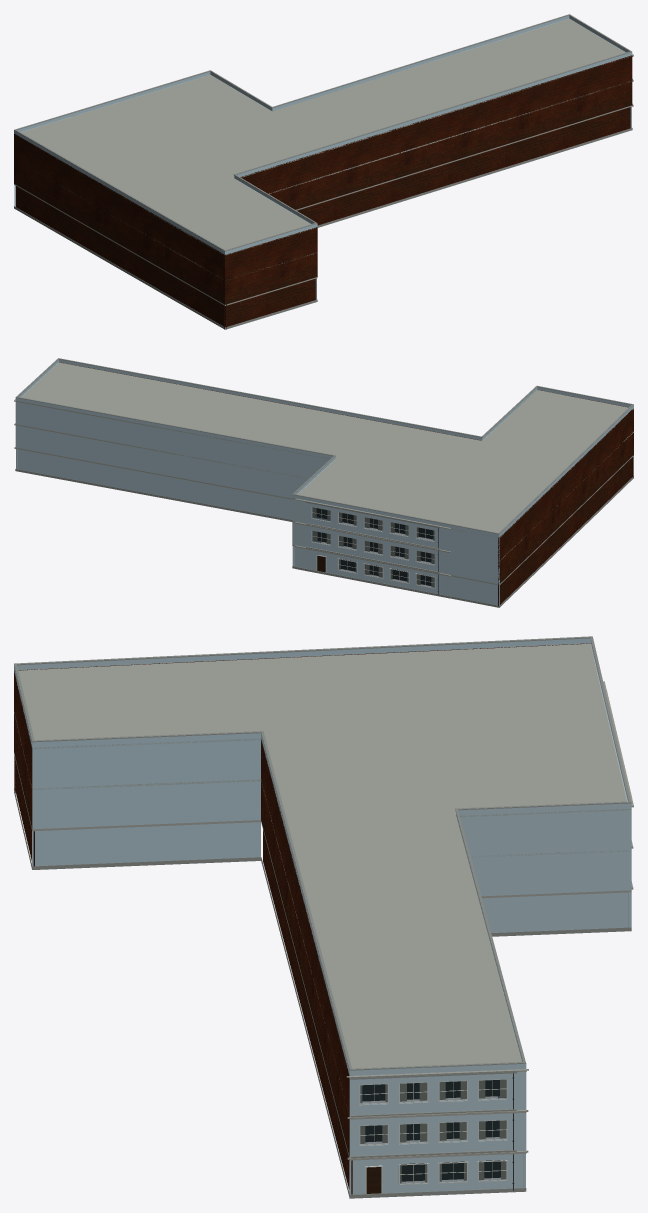
Rendered from building.glb.
3 views of the same model, one above another, from view 1: azimuth 30°, elevation 25°; view 2: azimuth 150°, elevation 25°; view 3: azimuth 270°, elevation 25° (orthographic). The views are drawn at different scales.
Visible parts, largest first — view 1: roof/main:0/roof_slab#0001, main:0/edge6/z0/main:0/edge6/z0/wall_1_0, main:0/edge6/z0/main:0/edge6/z0/wall_0_0, roof/main:0/parapet#0001, main:0/edge4/z0/main:0/edge4/z0/wall_1_0/core0, main:0/edge0/z0/main:0/edge0/z0/wall_1_0/core0, main:0/edge1/z0/main:0/edge1/z0/wall_1_0, main:0/edge2/z0/main:0/edge2/z0/wall_1_0, roof/main:0/parapet_cap#0002, main:0/edge4/z0/main:0/edge4/z0/wall_0_0/core0, main:0/edge0/z0/main:0/edge0/z0/wall_0_0/core0, roof/main:0/parapet_cap#0001 (+5 smaller); view 2: roof/main:0/roof_slab#0001, main:0/edge9/z0/main:0/edge9/z0/wall_1_0/core0, main:0/edge9/z0/main:0/edge9/z0/wall_0_0/core0, roof/main:0/parapet#0001, main:0/edge12/z0/main:0/edge12/z0/wall_1_0, main:0/edge0/z0/main:0/edge0/z0/wall_1_0/core0, main:0/edge13/z0/main:0/edge13/z0/wall_1_0/core0, roof/main:0/parapet_cap#0002, main:0/edge1/z0/main:0/edge1/z0/wall_1_0, main:0/edge2/z0/main:0/edge2/z0/wall_1_0, main:0/edge12/z0/main:0/edge12/z0/wall_0_0, roof/main:0/parapet_cap#0001 (+9 smaller); view 3: roof/main:0/roof_slab#0001, main:0/edge5/z0/main:0/edge5/z0/wall_1_0, main:0/edge10/z0/main:0/edge10/z0/wall_1_0/core0, main:0/edge5/z0/main:0/edge5/z0/wall_0_0, roof/main:0/parapet#0001, main:0/edge7/z0/main:0/edge7/z0/wall_1_0, main:0/edge6/z0/main:0/edge6/z0/wall_1_0, main:0/edge10/z0/main:0/edge10/z0/wall_0_0/core0, roof/main:0/parapet_cap#0002, main:0/edge7/z0/main:0/edge7/z0/wall_0_0, main:0/edge6/z0/main:0/edge6/z0/wall_0_0, roof/main:0/parapet_cap#0001 (+3 smaller).
Boxes of the visible parts, left/top/right/bottom form: roof/main:0/roof_slab#0001: left=21, top=19, right=630, bottom=253; main:0/edge6/z0/main:0/edge6/z0/wall_1_0: left=240, top=55, right=632, bottom=209; main:0/edge6/z0/main:0/edge6/z0/wall_0_0: left=297, top=107, right=631, bottom=225; roof/main:0/parapet#0001: left=14, top=15, right=632, bottom=254; main:0/edge4/z0/main:0/edge4/z0/wall_1_0/core0: left=225, top=227, right=317, bottom=304; main:0/edge0/z0/main:0/edge0/z0/wall_1_0/core0: left=14, top=133, right=104, bottom=234; main:0/edge1/z0/main:0/edge1/z0/wall_1_0: left=104, top=186, right=165, bottom=270; main:0/edge2/z0/main:0/edge2/z0/wall_1_0: left=165, top=221, right=222, bottom=303; roof/main:0/parapet_cap#0002: left=14, top=14, right=631, bottom=250; main:0/edge4/z0/main:0/edge4/z0/wall_0_0/core0: left=224, top=278, right=316, bottom=326; main:0/edge0/z0/main:0/edge0/z0/wall_0_0/core0: left=16, top=186, right=105, bottom=258; roof/main:0/parapet_cap#0001: left=14, top=15, right=631, bottom=251; roof/main:0/roof_slab#0001: left=16, top=362, right=633, bottom=537; main:0/edge9/z0/main:0/edge9/z0/wall_1_0/core0: left=16, top=402, right=329, bottom=498; main:0/edge9/z0/main:0/edge9/z0/wall_0_0/core0: left=16, top=449, right=292, bottom=519; roof/main:0/parapet#0001: left=15, top=359, right=633, bottom=537; main:0/edge12/z0/main:0/edge12/z0/wall_1_0: left=306, top=502, right=440, bottom=572; main:0/edge0/z0/main:0/edge0/z0/wall_1_0/core0: left=499, top=482, right=557, bottom=583; main:0/edge13/z0/main:0/edge13/z0/wall_1_0/core0: left=440, top=528, right=499, bottom=584; roof/main:0/parapet_cap#0002: left=16, top=358, right=633, bottom=533; main:0/edge1/z0/main:0/edge1/z0/wall_1_0: left=557, top=445, right=596, bottom=528; main:0/edge2/z0/main:0/edge2/z0/wall_1_0: left=596, top=410, right=632, bottom=490; main:0/edge12/z0/main:0/edge12/z0/wall_0_0: left=306, top=549, right=440, bottom=594; roof/main:0/parapet_cap#0001: left=16, top=359, right=633, bottom=534; roof/main:0/roof_slab#0001: left=17, top=643, right=626, bottom=1068; main:0/edge5/z0/main:0/edge5/z0/wall_1_0: left=32, top=738, right=260, bottom=829; main:0/edge10/z0/main:0/edge10/z0/wall_1_0/core0: left=460, top=808, right=631, bottom=896; main:0/edge5/z0/main:0/edge5/z0/wall_0_0: left=32, top=822, right=260, bottom=866; roof/main:0/parapet#0001: left=14, top=638, right=631, bottom=1075; main:0/edge7/z0/main:0/edge7/z0/wall_1_0: left=349, top=1073, right=517, bottom=1157; main:0/edge6/z0/main:0/edge6/z0/wall_1_0: left=261, top=739, right=349, bottom=1156; main:0/edge10/z0/main:0/edge10/z0/wall_0_0/core0: left=482, top=892, right=631, bottom=932; roof/main:0/parapet_cap#0002: left=14, top=636, right=631, bottom=1069; main:0/edge7/z0/main:0/edge7/z0/wall_0_0: left=349, top=1154, right=517, bottom=1194; main:0/edge6/z0/main:0/edge6/z0/wall_0_0: left=263, top=830, right=352, bottom=1194; roof/main:0/parapet_cap#0001: left=14, top=637, right=631, bottom=1070.
Size of the model in its own units: 70.78 by 9.77 by 42.65.
10 materials, 2 textured.
